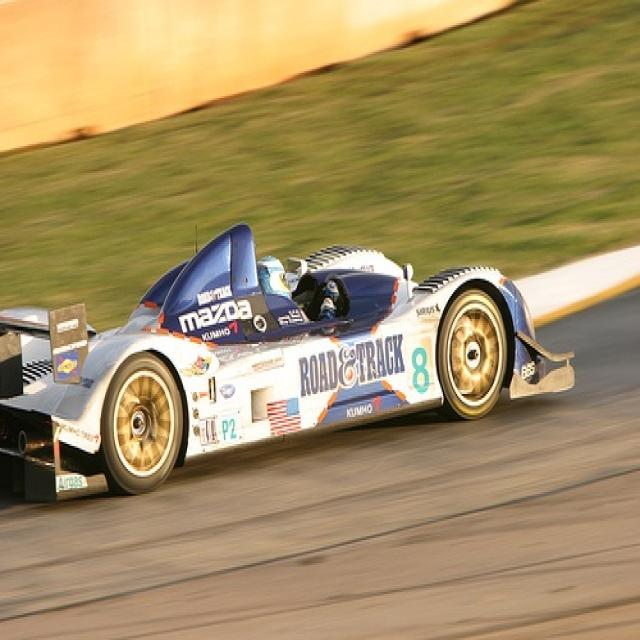car: (1, 217, 578, 506)
